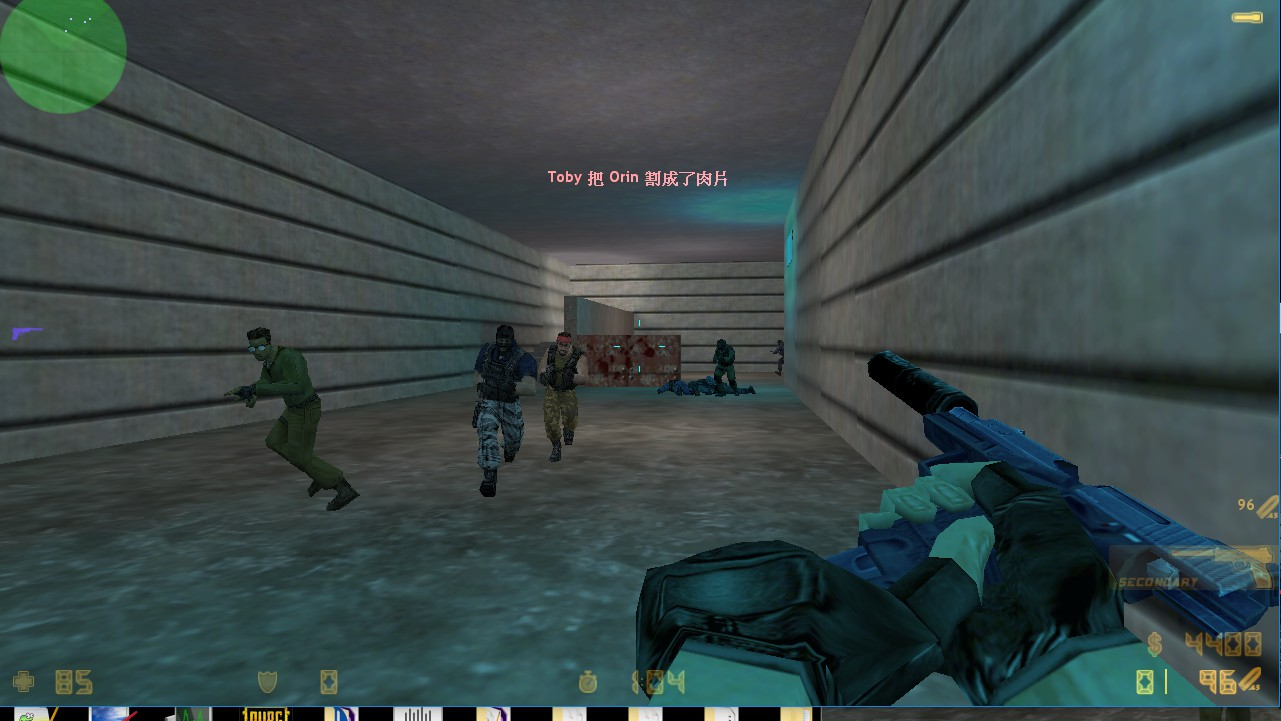person: (227, 323, 360, 518), (465, 316, 529, 503), (536, 328, 585, 456), (709, 339, 740, 395), (768, 333, 787, 378)
